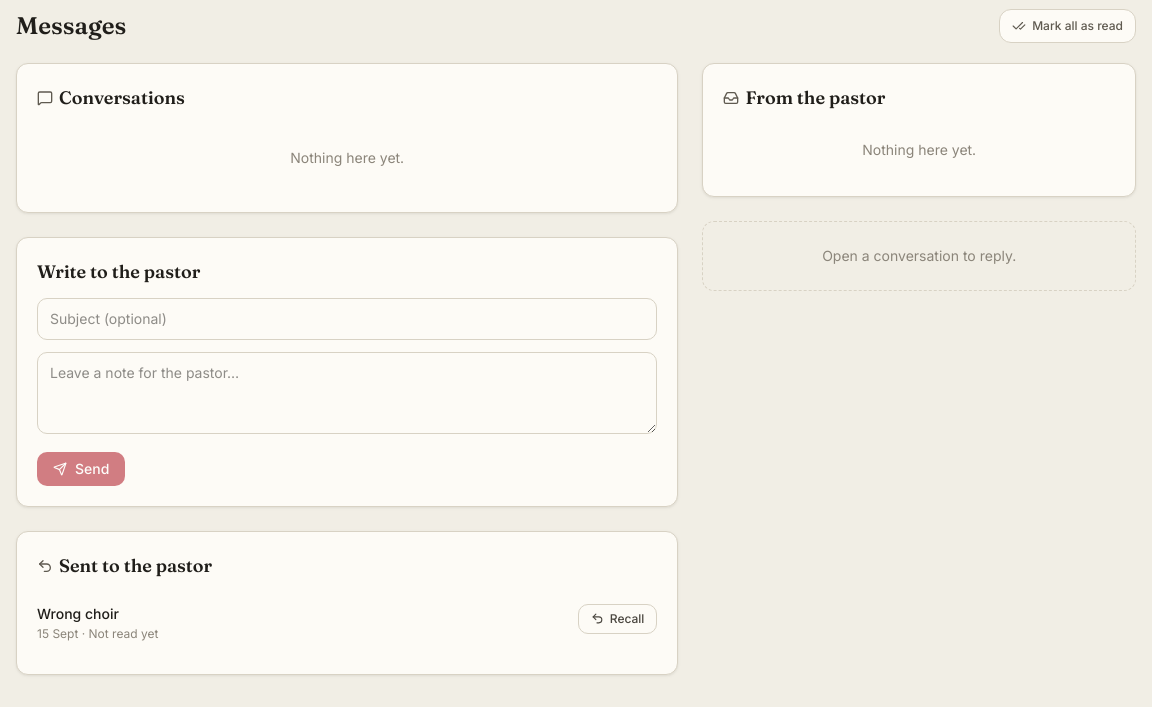
Messages: recalling a message sent to the pastor › withdraws the message once confirmed, and leaves the row marked as recalled
The width and height of the screenshot is (1152, 707).
(page scrolled)
Expected: the text "Wrong choir" is shown, [37,604,119,622]
Step 1. Click the button "Recall" → point(618, 618), box [578,604,657,634]
(page scrolled)
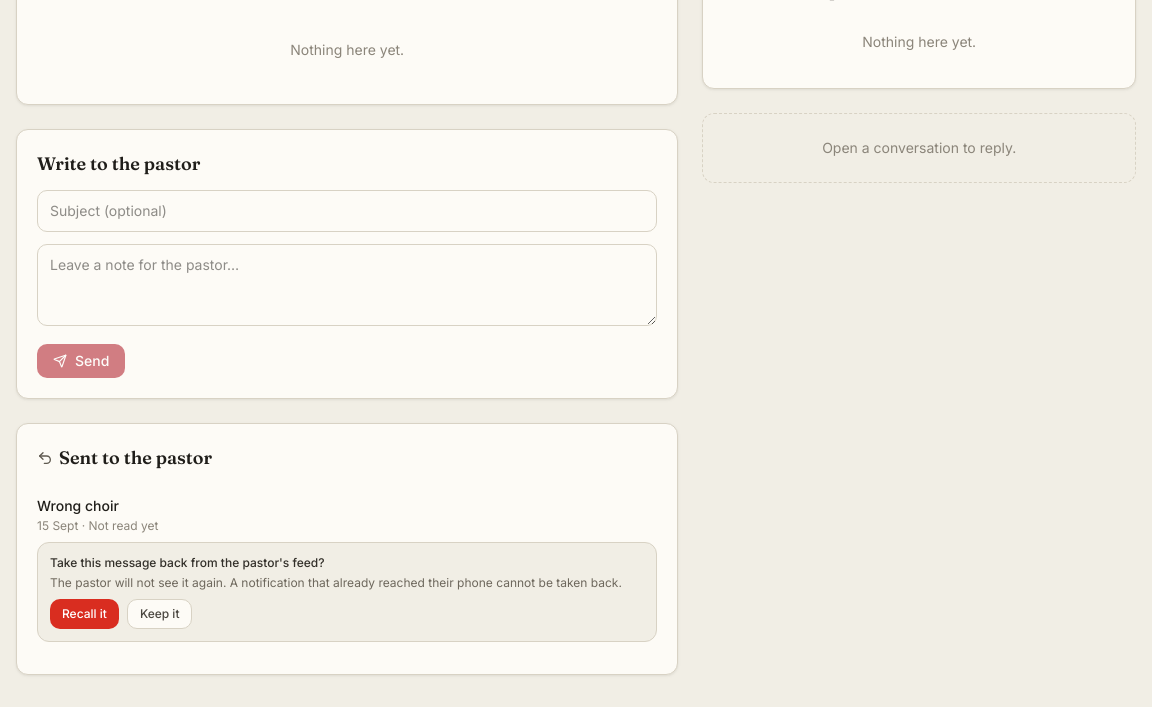
Step 2. Click the button "Recall it" → point(84, 614), box [50,598,119,628]
(page scrolled)
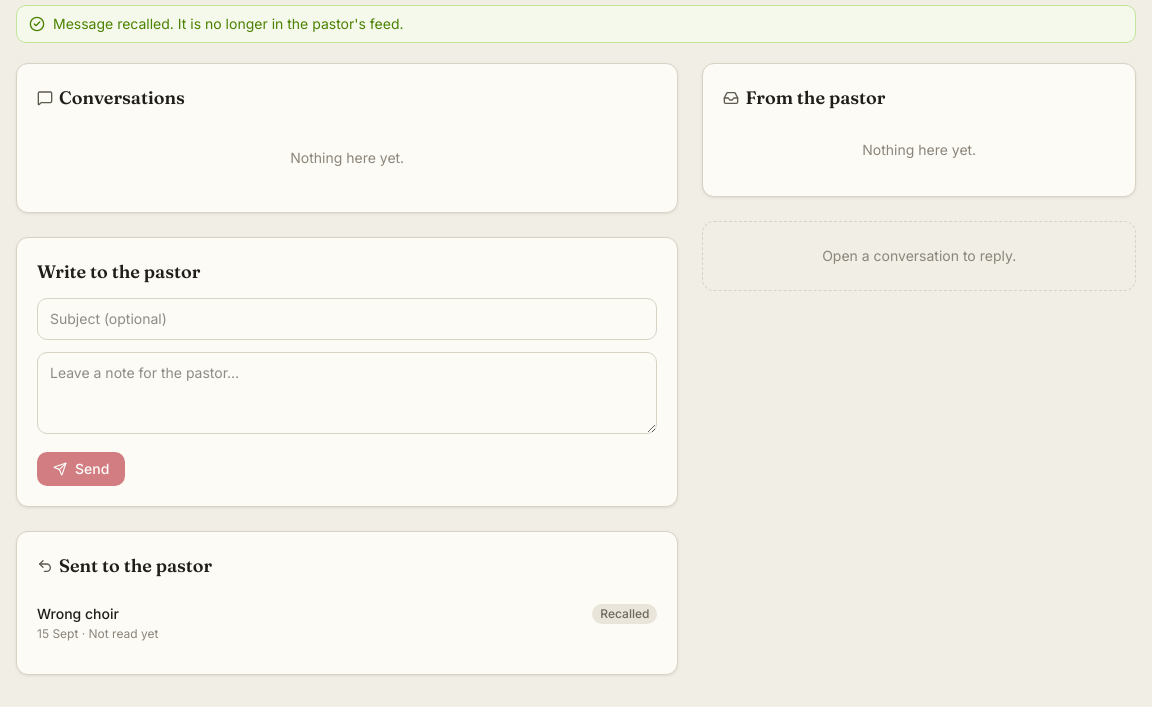
Expected: the text "Wrong choir" is shown, [37,604,119,622]
Expected: the text "Recalled" is shown, [592,604,657,624]
Expected: the text "Message recalled. It is no longer in the pastor's feed." is shown, [53,14,404,34]
